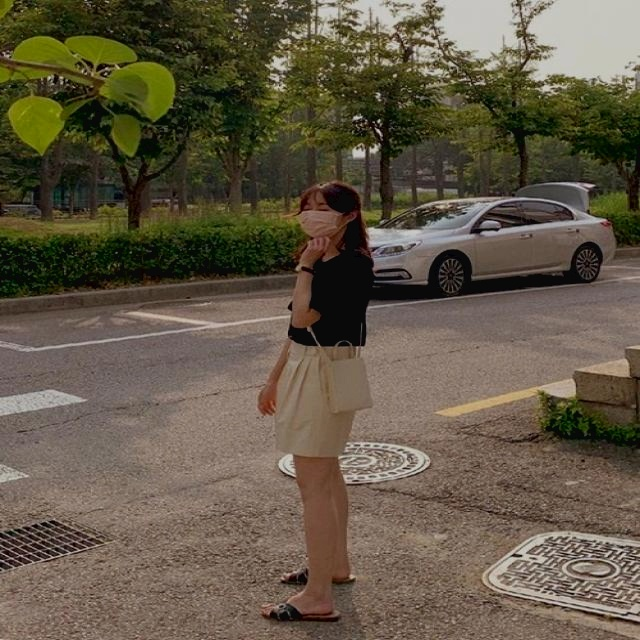Shorts: (272, 335, 364, 573)
